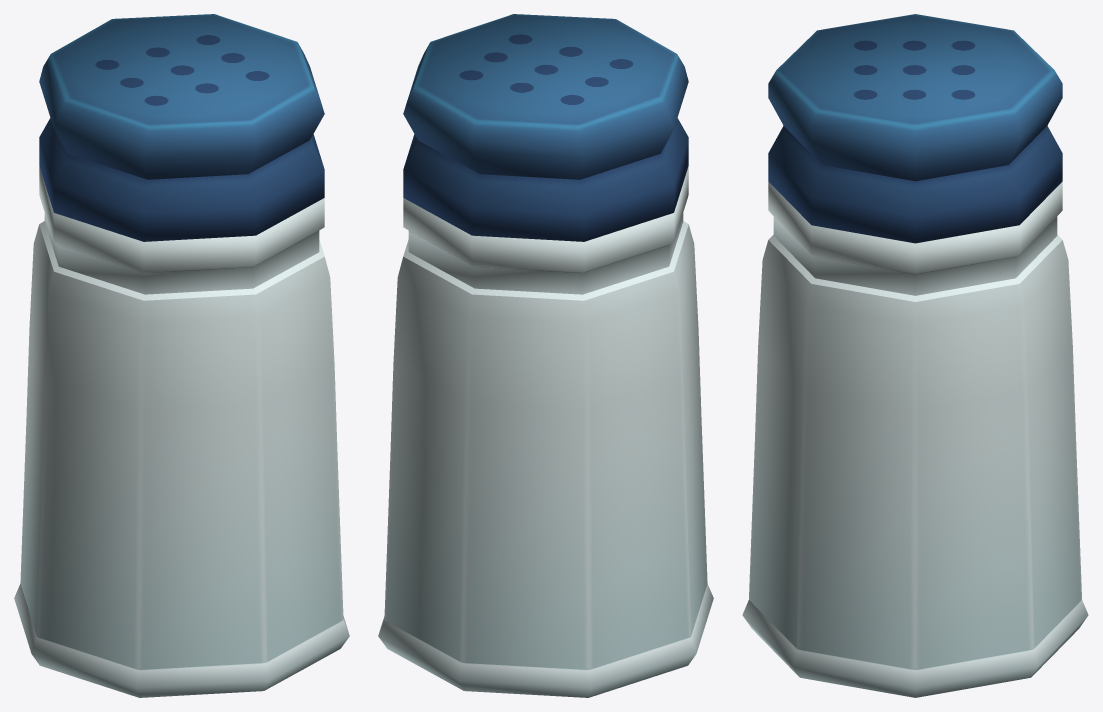
File: Asset_Utensil_SaltShaker.FBX
3 views of the same model, side by side, from view 1: azimuth 30°, elevation 25°; view 2: azimuth 150°, elevation 25°; view 3: azimuth 270°, elevation 25° (orthographic).
Parts seen in each view (by area): view 1: Cylinder001; view 2: Cylinder001; view 3: Cylinder001.
Boxes of the visible parts, x1=… form: Cylinder001: x1=14, y1=14, x2=349, y2=697; Cylinder001: x1=378, y1=14, x2=713, y2=697; Cylinder001: x1=742, y1=14, x2=1088, y2=697.
Bounding box in the file's own units: 7.05 × 12.56 × 7.05.
1 material, 1 textured.
